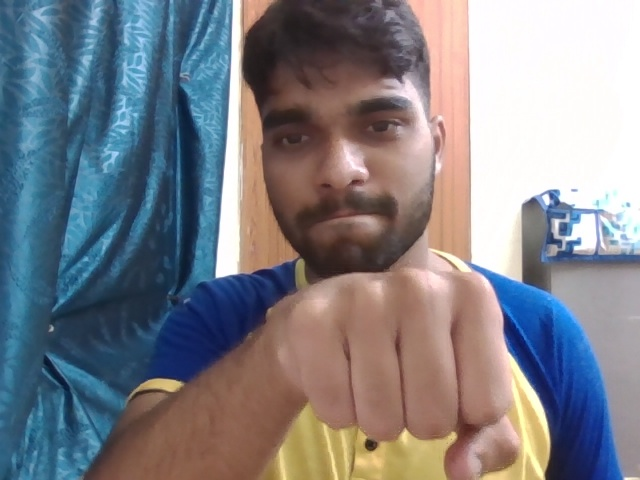Yes: (267, 260, 547, 480)
